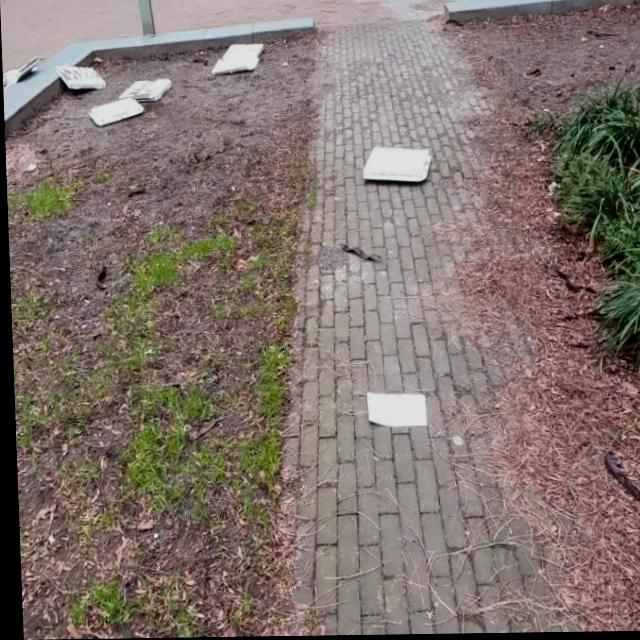Paper: (362, 391, 425, 429)
